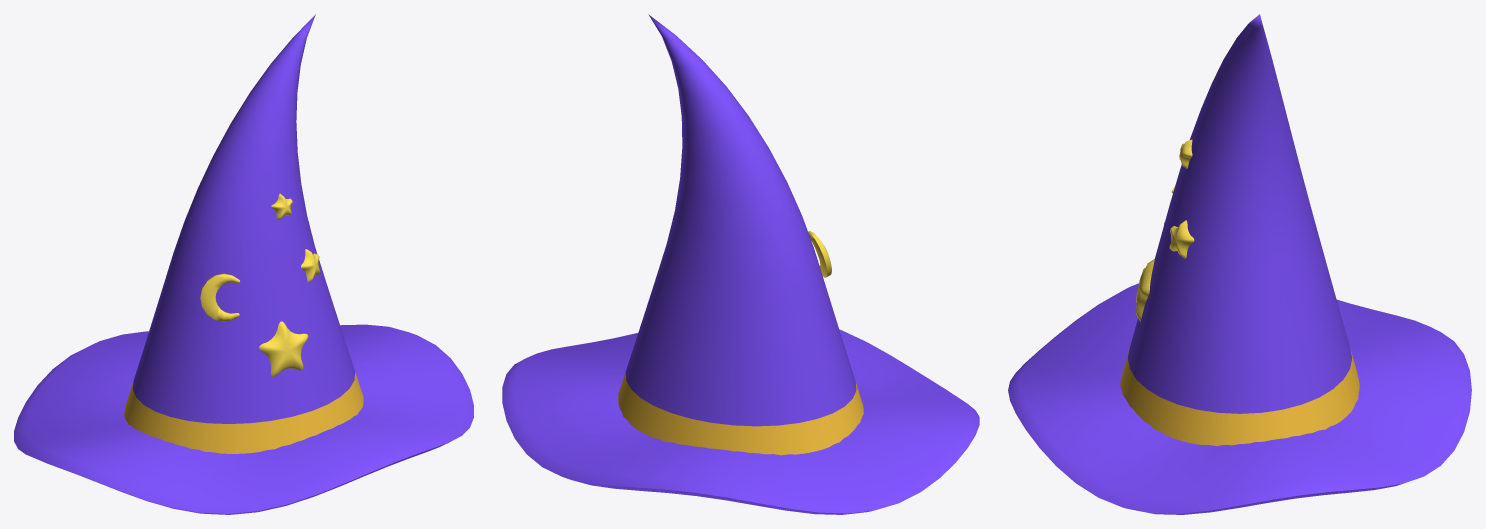
Rendered from wizard.glb.
The picture shows the model from 3 angles, left to right: view 1: azimuth 30°, elevation 25°; view 2: azimuth 150°, elevation 25°; view 3: azimuth 270°, elevation 25°; orthographic projection. The views are drawn at different scales.
Parts seen in each view (by area): view 1: wizard; view 2: wizard; view 3: wizard.
Boxes of the visible parts, x1=… form: wizard: x1=14, y1=14, x2=473, y2=514; wizard: x1=502, y1=14, x2=979, y2=514; wizard: x1=1008, y1=14, x2=1471, y2=514.
Size of the model in its own units: 0.82 by 0.7381 by 0.697.
